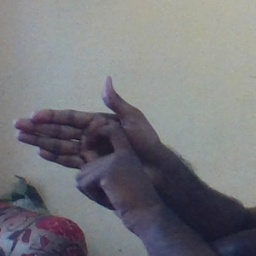R: (14, 74, 155, 194)
